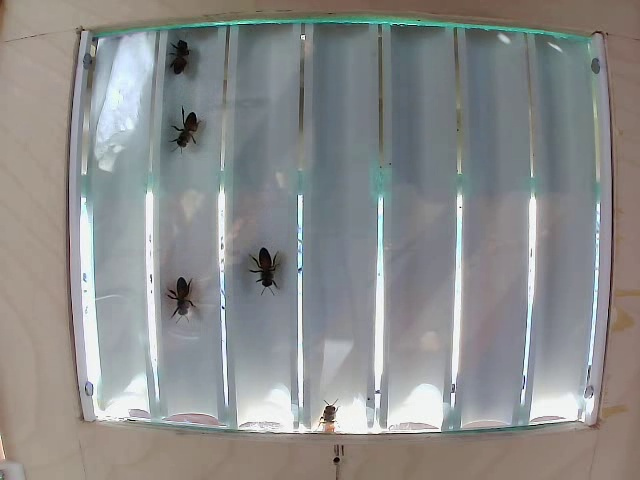bee: (170, 272, 206, 322), (255, 243, 285, 299), (172, 100, 209, 138), (168, 34, 203, 67)
